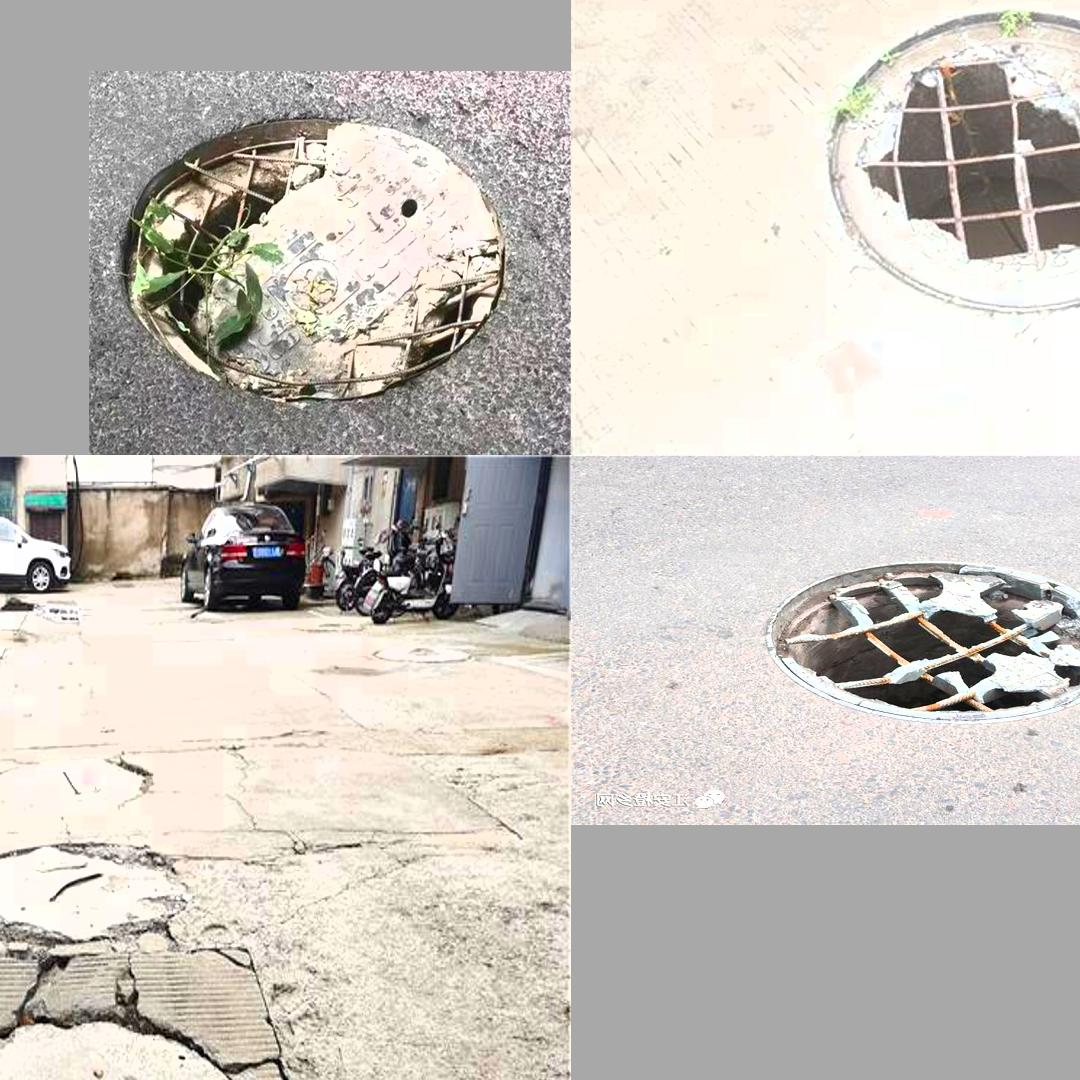broke: (114, 110, 510, 406), (785, 0, 1080, 343), (0, 897, 344, 1080), (765, 547, 1080, 731)
